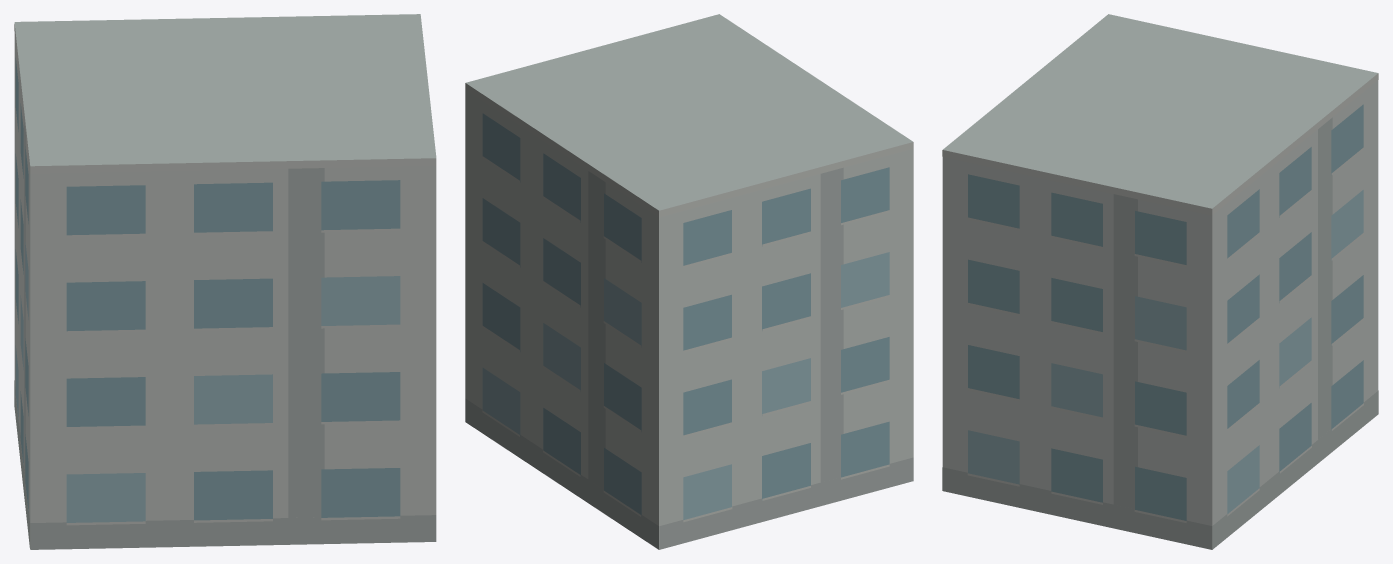
The model's file is residential-d3aabf71-c6cb-49ab-a809-d78d876a61b5.glb.
3 renders of one model, left to right at view 1: azimuth 30°, elevation 25°; view 2: azimuth 150°, elevation 25°; view 3: azimuth 270°, elevation 25°, orthographic. The views are drawn at different scales.
Parts seen in each view (by area): view 1: residential-d3aabf71-c6cb-49ab-a809-d78d876a61b5.tmp; view 2: residential-d3aabf71-c6cb-49ab-a809-d78d876a61b5.tmp; view 3: residential-d3aabf71-c6cb-49ab-a809-d78d876a61b5.tmp.
Part boxes in pixels (x1,y1,x2,y2): residential-d3aabf71-c6cb-49ab-a809-d78d876a61b5.tmp: [14, 14, 436, 549]; residential-d3aabf71-c6cb-49ab-a809-d78d876a61b5.tmp: [465, 14, 913, 549]; residential-d3aabf71-c6cb-49ab-a809-d78d876a61b5.tmp: [942, 14, 1378, 549].
Bounding box in the file's own units: 14.94 × 12.2 × 14.14.
